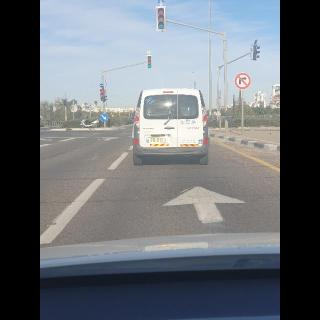LicensePlate: (150, 138, 171, 142)
